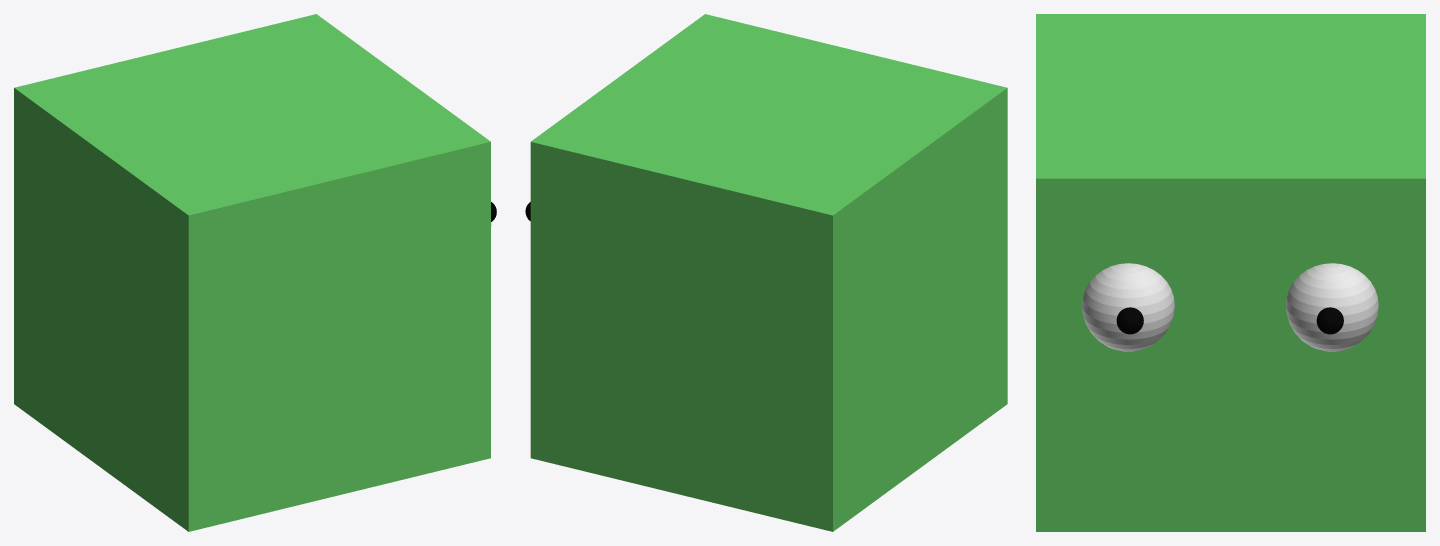
The model's file is Player.fbx.
3 views of the same model, side by side, from view 1: azimuth 30°, elevation 25°; view 2: azimuth 150°, elevation 25°; view 3: azimuth 270°, elevation 25° (orthographic). The views are drawn at different scales.
Parts seen in each view (by area): view 1: Cube; view 2: Cube; view 3: Cube, rigth_eye, left_eye, Sphere.001, Sphere.
Boxes of the visible parts, x1=… form: Cube: x1=14, y1=14, x2=490, y2=531; Cube: x1=530, y1=14, x2=1007, y2=531; Cube: x1=1036, y1=14, x2=1425, y2=531; rigth_eye: x1=1286, y1=263, x2=1378, y2=351; left_eye: x1=1082, y1=263, x2=1174, y2=351; Sphere.001: x1=1116, y1=307, x2=1143, y2=334; Sphere: x1=1316, y1=307, x2=1343, y2=334.
Bounding box in the file's own units: 231 × 200 × 200.
